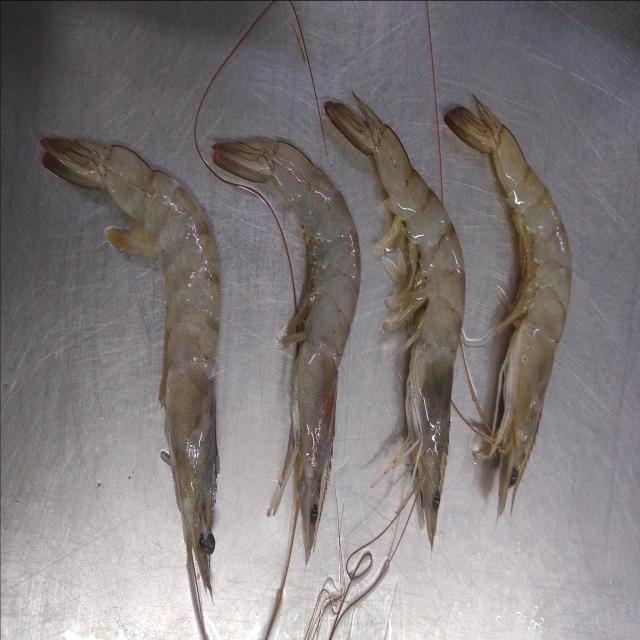shrimp: (40, 136, 220, 638), (325, 96, 465, 547), (212, 140, 360, 560), (444, 98, 571, 513)
